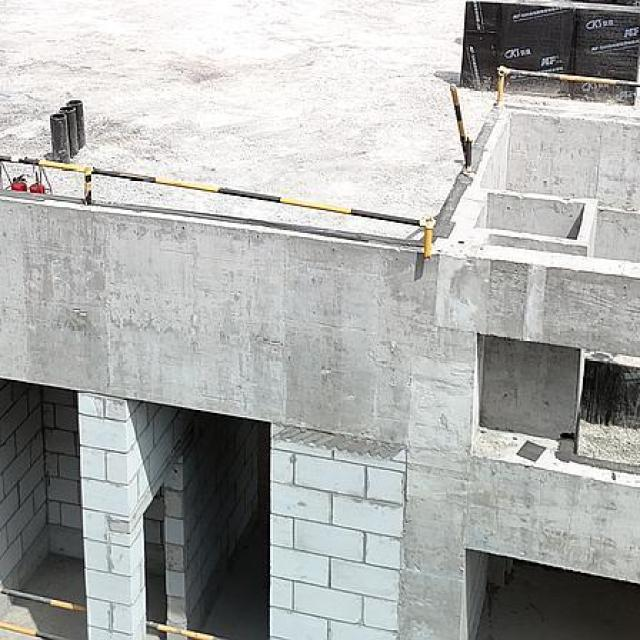edge_guardrail: (0, 153, 437, 260), (496, 65, 640, 104), (0, 585, 87, 640), (447, 84, 473, 164), (144, 617, 223, 640)
